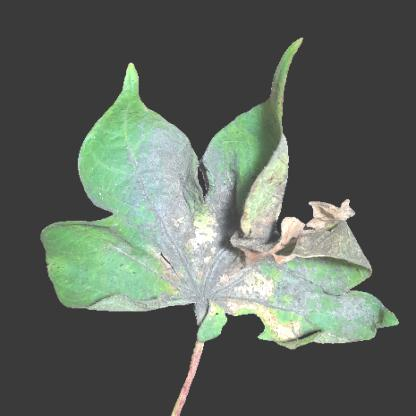curl_stage1: (53, 231, 102, 285)
healthy: (93, 131, 133, 184)
sooty: (182, 249, 332, 311), (138, 135, 216, 245), (145, 240, 225, 288), (213, 165, 249, 247), (291, 216, 358, 254), (335, 289, 381, 341), (101, 282, 183, 309)
